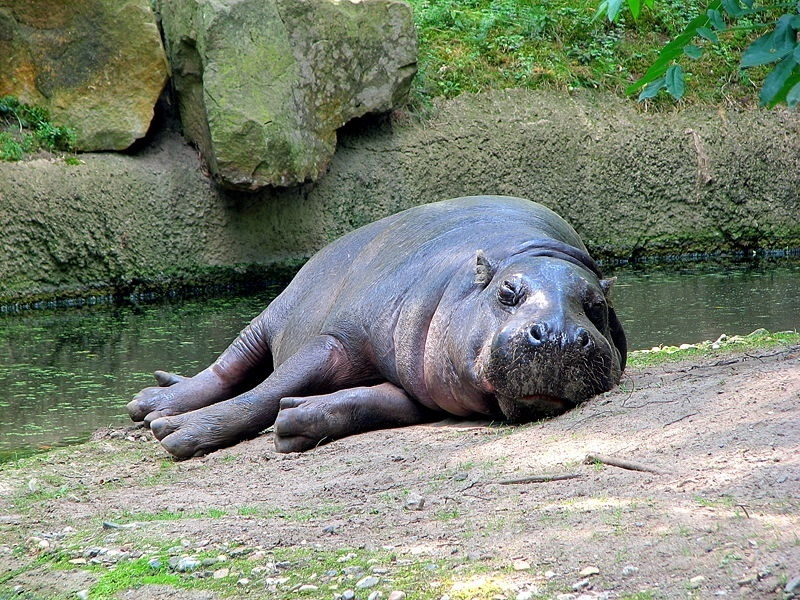hipopotamo: (97, 169, 665, 495)
